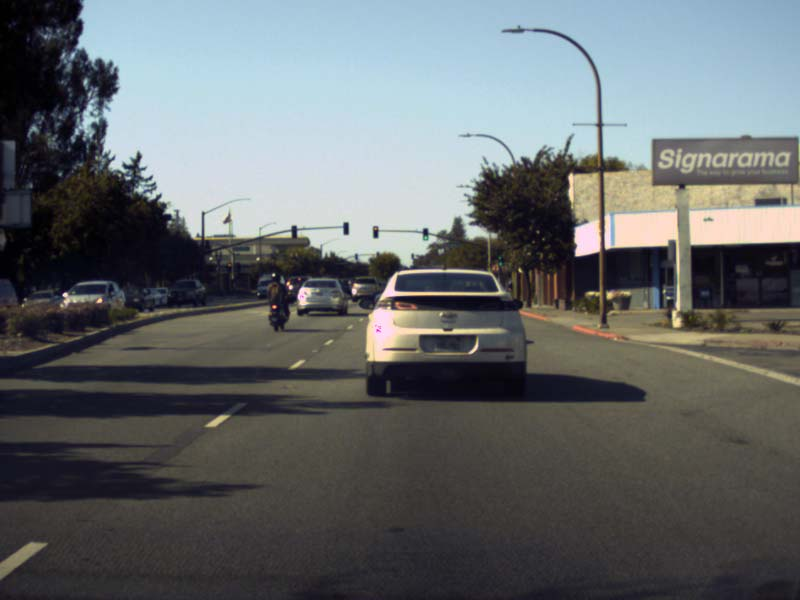Green: (422, 227, 428, 240), (496, 253, 502, 260), (497, 261, 503, 268)
Red: (372, 225, 378, 239), (227, 262, 231, 272)
